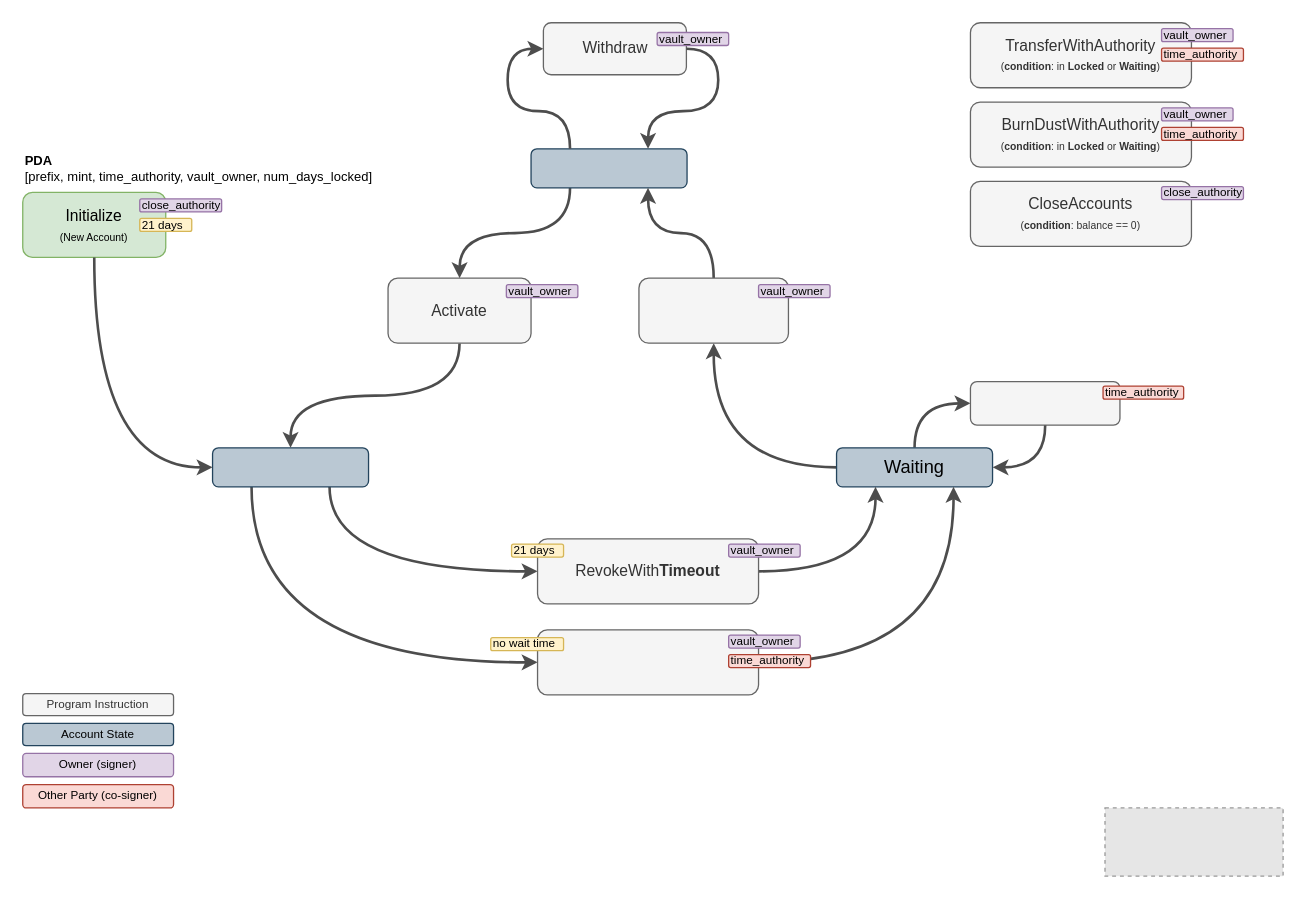
Some shapes in this 1307 by 900 pixel diagram are drawn without their labels. Grey dashed boxes stand in for pictures. The shapes that lost their labels are listed below. From the top down, each one's centre as x and y in pixels, then its label:
the point at 608,168: Unlocked
the point at 713,310: Deactivate ( condition : done waiting)
the point at 1044,402: CancelTimeout
the point at 290,467: Locked
the point at 647,662: RevokeWith Authority
